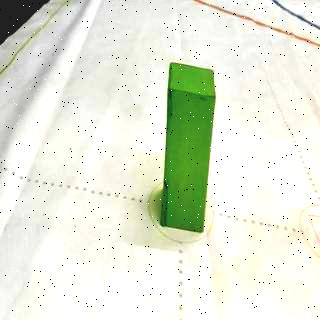greenbox: (163, 61, 215, 235)
